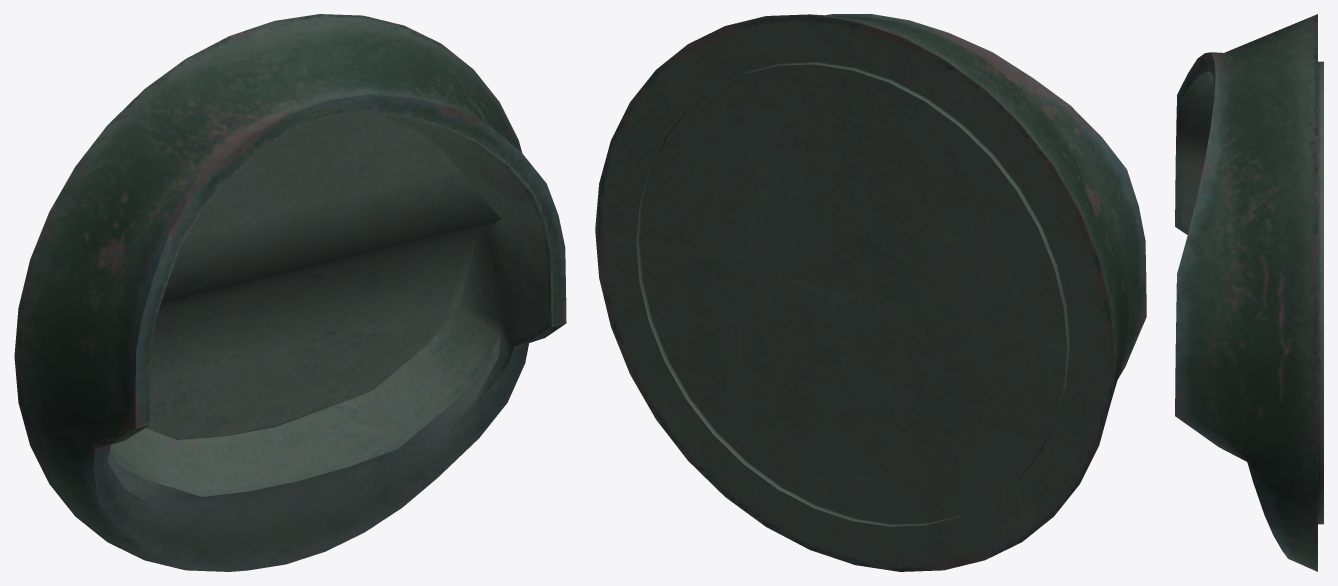
Rendered from Turret_01.glb.
The picture shows the model from 3 angles, left to right: view 1: azimuth 30°, elevation 25°; view 2: azimuth 150°, elevation 25°; view 3: azimuth 270°, elevation 25°; orthographic projection. The views are drawn at different scales.
Visible parts, largest first — view 1: set_0_group_0; view 2: set_0_group_0; view 3: set_0_group_0.
Boxes of the visible parts, x1=… form: set_0_group_0: x1=14, y1=14, x2=566, y2=571; set_0_group_0: x1=595, y1=14, x2=1146, y2=571; set_0_group_0: x1=1175, y1=14, x2=1323, y2=571.
Size of the model in its own units: 1.85 by 1.85 by 0.4931.
Materials: 1 (1 with a texture image).
